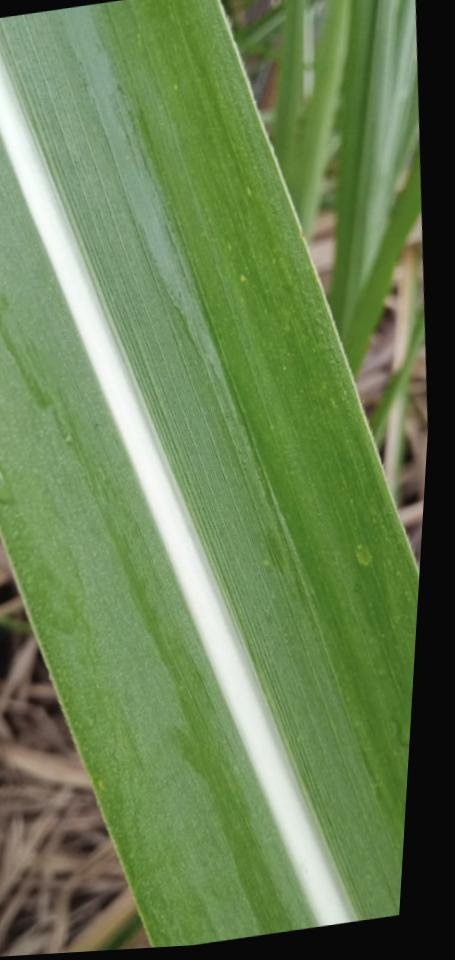Healthy: (0, 0, 419, 948)
